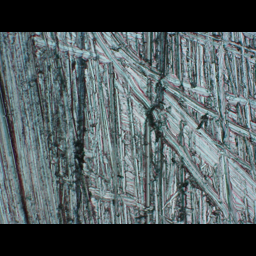d: (86, 32, 255, 214)
